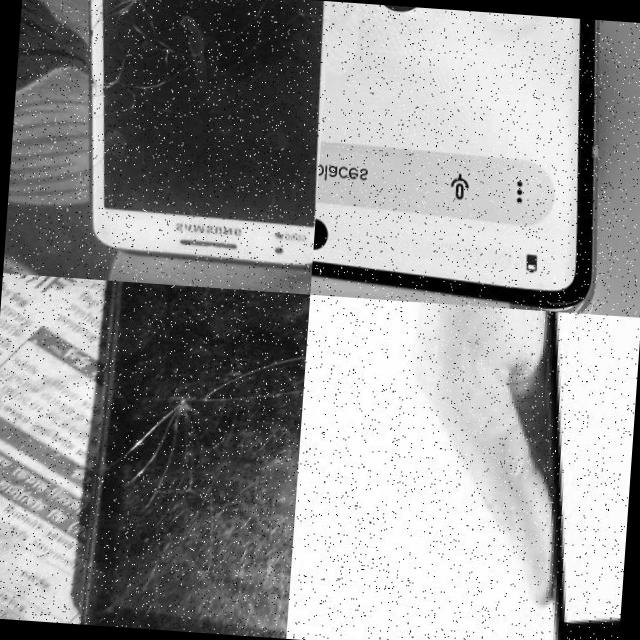screen crack: (92, 316, 308, 548), (76, 0, 330, 38)
